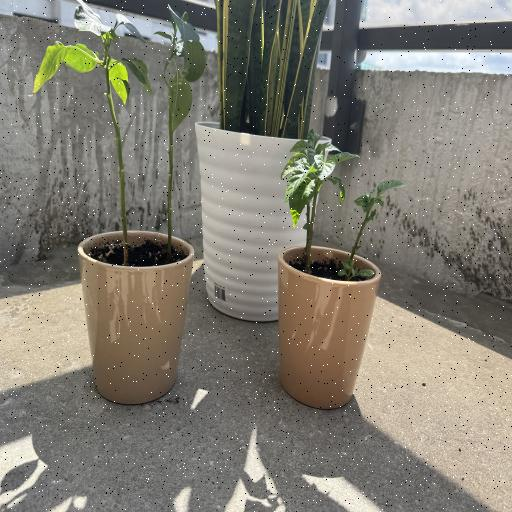Plant Pot: (194, 120, 331, 321), (78, 230, 192, 406), (276, 244, 382, 407)
